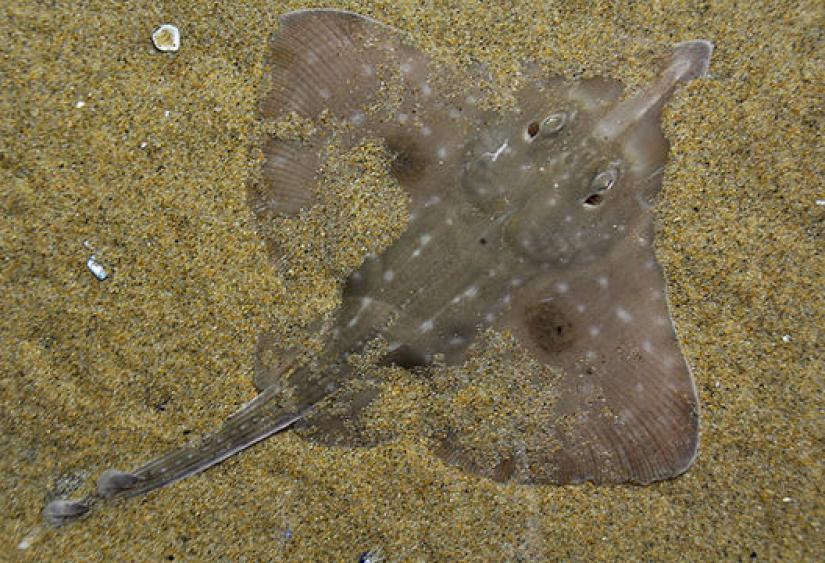Big Skate: (11, 3, 801, 563)
